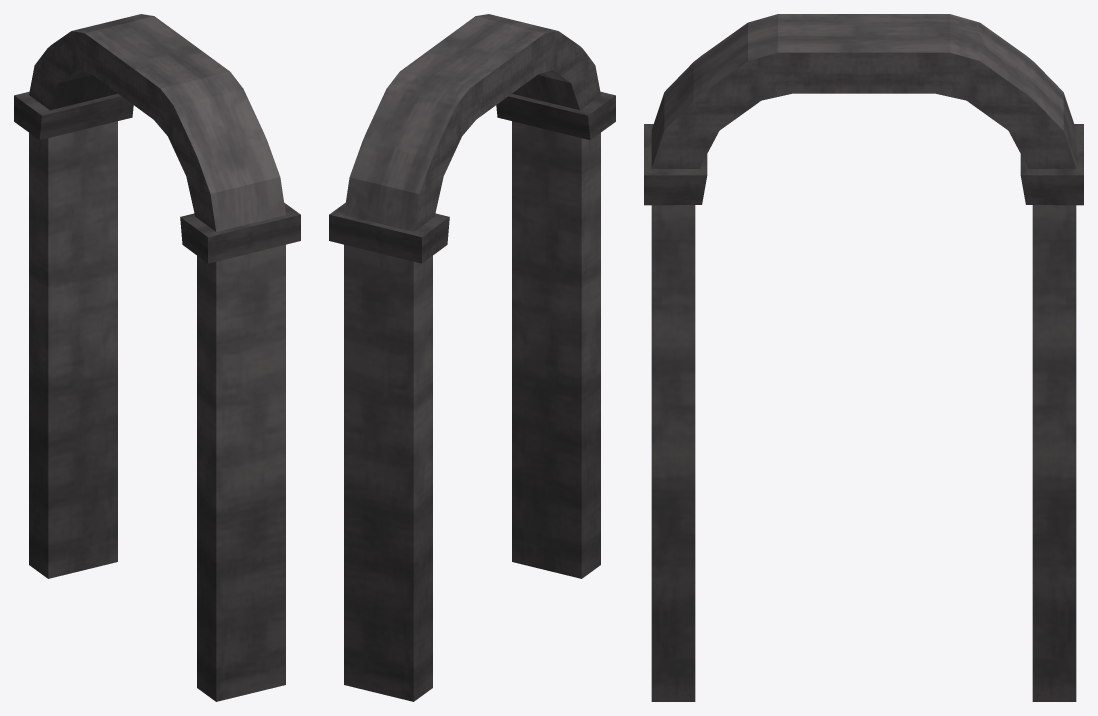
The model's file is F_Doorframe_2.fbx.
3 renders of one model, left to right at view 1: azimuth 30°, elevation 25°; view 2: azimuth 150°, elevation 25°; view 3: azimuth 270°, elevation 25°, orthographic. The views are drawn at different scales.
Parts seen in each view (by area): view 1: F_Doorframe_2; view 2: F_Doorframe_2; view 3: F_Doorframe_2.
Boxes of the visible parts, <box> form: F_Doorframe_2: <box>14,14,300,701</box>; F_Doorframe_2: <box>329,14,615,701</box>; F_Doorframe_2: <box>644,14,1083,701</box>.
Size of the model in its own units: 4.6 by 7.49 by 1.27.
1 material, 1 textured.
